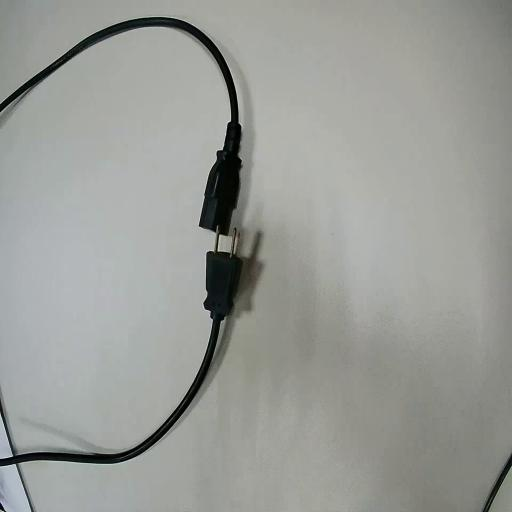wire: (0, 251, 252, 464), (0, 18, 240, 234)
